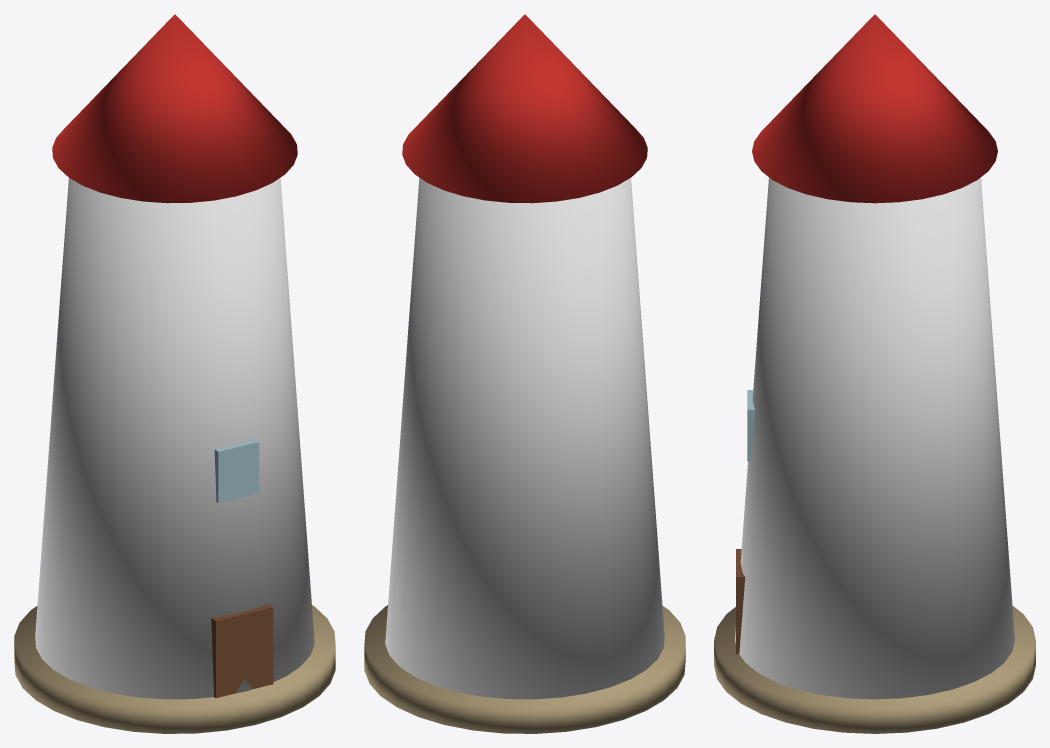
File: windmill.glb
3 renders of one model, left to right at view 1: azimuth 30°, elevation 25°; view 2: azimuth 150°, elevation 25°; view 3: azimuth 270°, elevation 25°, orthographic.
Visible parts, largest first — view 1: windmill; view 2: windmill; view 3: windmill.
Part boxes in pixels (x1=…): windmill: x1=14, y1=14, x2=335, y2=733; windmill: x1=364, y1=14, x2=685, y2=733; windmill: x1=714, y1=14, x2=1035, y2=733.
Bounding box in the file's own units: 0.34 × 0.76 × 0.34.
